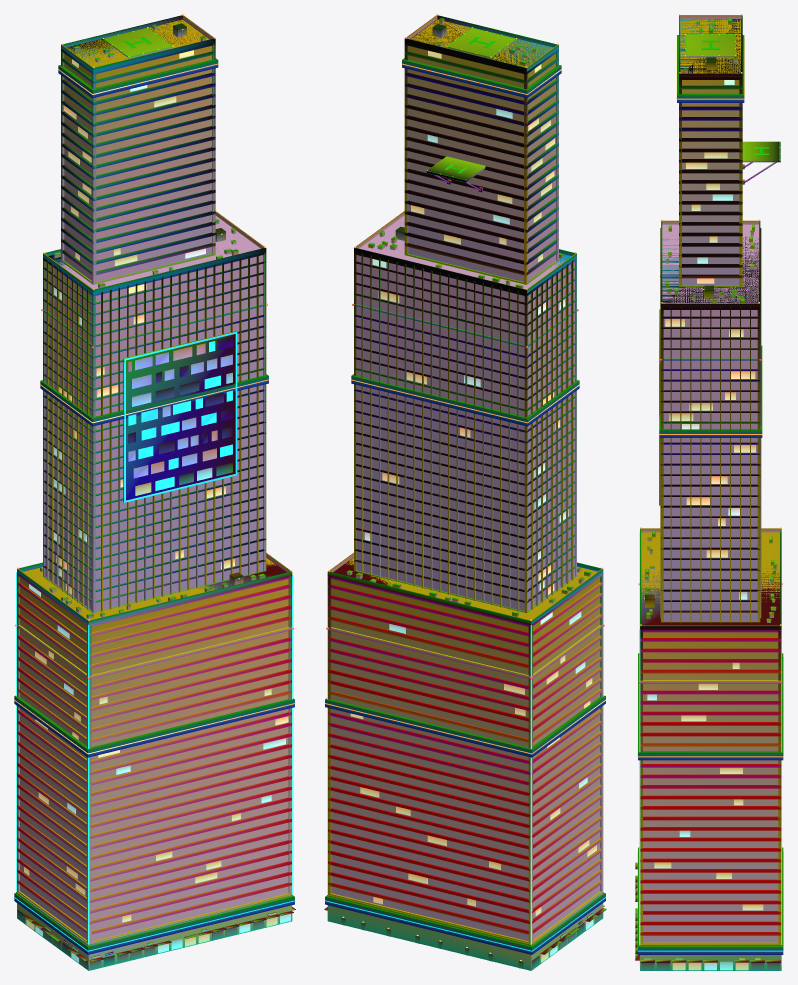
Rendered from Mega_Slab.fbx.
3 views of the same model, side by side, from view 1: azimuth 30°, elevation 25°; view 2: azimuth 150°, elevation 25°; view 3: azimuth 270°, elevation 25° (orthographic).
Visible parts, largest first — view 1: Mega_Slab_LOD0; view 2: Mega_Slab_LOD0; view 3: Mega_Slab_LOD0.
Boxes of the visible parts, x1,y1,x2,y2 form: Mega_Slab_LOD0: [14, 14, 295, 970]; Mega_Slab_LOD0: [324, 14, 606, 970]; Mega_Slab_LOD0: [635, 14, 783, 970].
Size of what is drawn, in the model's own units: 74.8 by 300 by 46.05.
